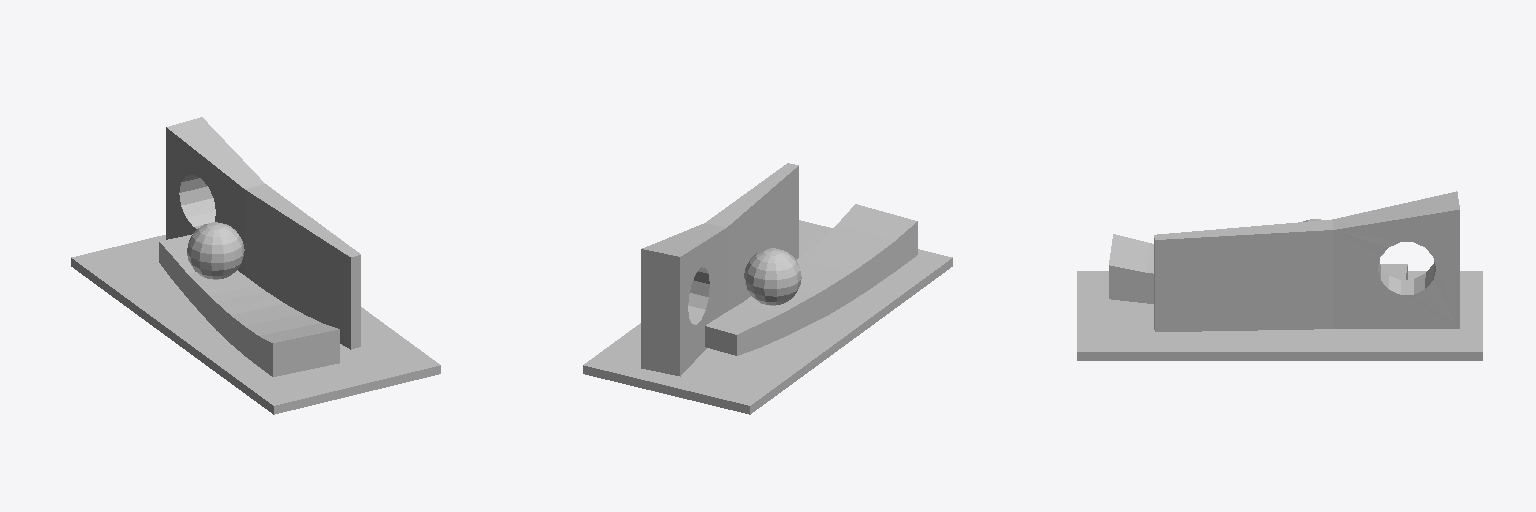
Rendered from ball-plane-and-hole.obj.
3 renders of one model, left to right at view 1: azimuth 30°, elevation 25°; view 2: azimuth 150°, elevation 25°; view 3: azimuth 270°, elevation 25°, orthographic.
Parts seen in each view (by area): view 1: Plane.003; view 2: Plane.003; view 3: Plane.003.
Part boxes in pixels (x1,y1,x2,y2): Plane.003: (71,117,440,414); Plane.003: (583,163,952,414); Plane.003: (1077,191,1482,360).
Bounding box in the file's own units: 0.6 × 0.44 × 1.26.